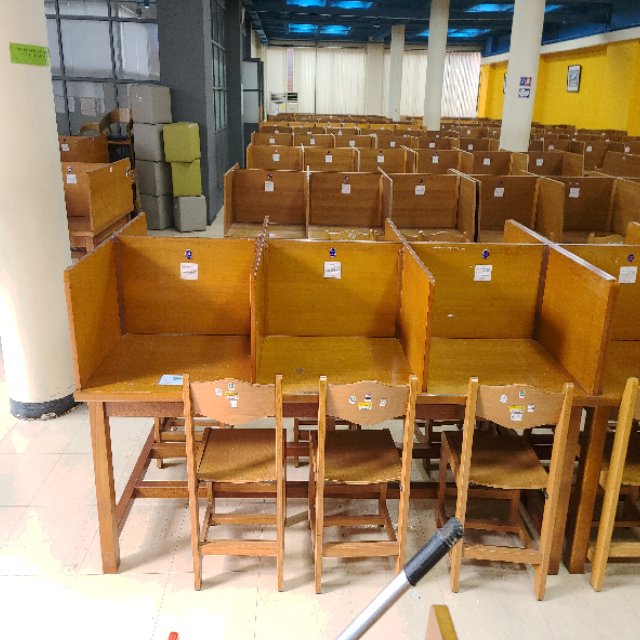empty: (76, 235, 252, 477), (434, 246, 594, 497), (259, 246, 425, 485)
